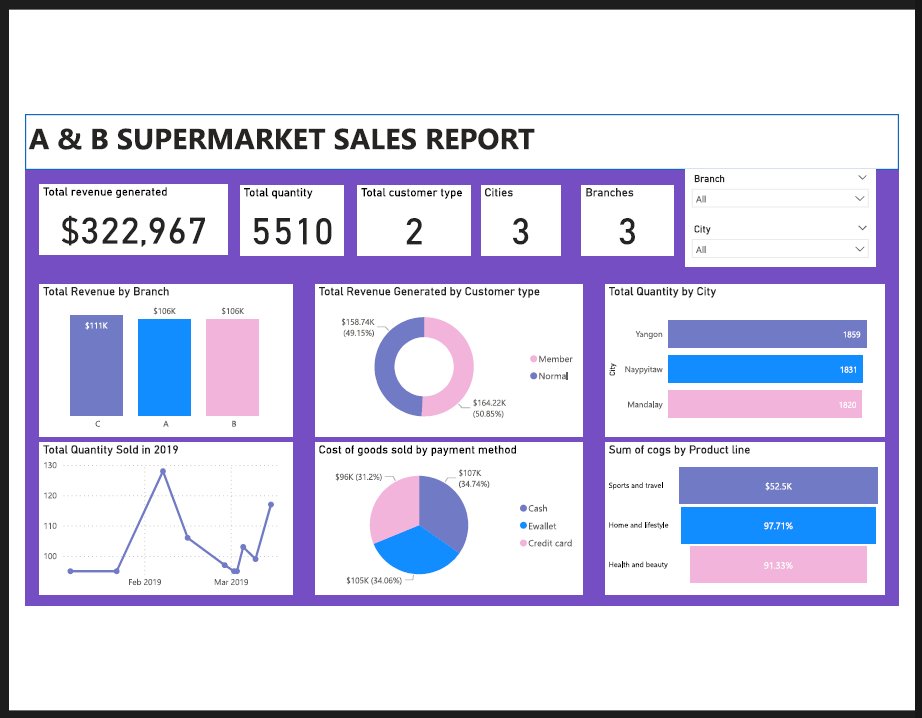

The dashboard page shown, as its layout file describes it:
{"tool":"powerbi","page":{"name":"Page 1","canvas":[1280,720],"ordinal":0},"visuals":[{"type":"card","title":"Total revenue generated","fields":{"Values":["Sum(Sheet1.Total)"]},"box":[20.7,103.3,275,101.7],"z":0},{"type":"shape","box":[0,0,1280,81.2],"z":1000},{"type":"textbox","box":[0,0,1280,81.2],"z":2000},{"type":"card","title":"Total quantity","fields":{"Values":["Sum(Sheet1.Quantity)"]},"box":[315.3,103.8,151,101.9],"z":3000},{"type":"card","title":"Total customer type","fields":{"Values":["Count(Sheet1.Customer type)"]},"box":[487.1,103.8,166.1,101.9],"z":4000},{"type":"card","title":"Cities","fields":{"Values":["Count(Sheet1.City)"]},"box":[668.3,103.8,117.1,101.9],"z":5000},{"type":"card","title":"Branches","fields":{"Values":["Count(Sheet1.Branch)"]},"box":[815.6,103.8,134,101.9],"z":6000},{"type":"columnChart","title":"Total Revenue by Branch","fields":{"Y":["Sum(Sheet1.Total)"],"Category":["Sheet1.Branch"]},"box":[20.8,249.2,370,222.8],"z":7000},{"type":"donutChart","title":"Total Revenue Generated by Customer type","fields":{"Y":["Sum(Sheet1.Total)"],"Category":["Sheet1.Customer type"]},"box":[424.8,249.2,390.8,222.8],"z":8000},{"type":"barChart","title":"Total Quantity by City","fields":{"Y":["Sum(Sheet1.Quantity)"],"Category":["Sheet1.City"]},"box":[849.6,249.2,409.7,222.8],"z":9000},{"type":"lineChart","title":"Total Quantity Sold in 2019","fields":{"Y":["Sum(Sheet1.Quantity)"],"Category":["Sheet1.Date"]},"box":[20.8,481.4,370,222.8],"z":10000},{"type":"funnel","fields":{"Category":["Sheet1.Product line"],"Y":["Sum(Sheet1.cogs)"]},"box":[849.6,481.4,409.7,222.8],"z":11000},{"type":"pieChart","title":"Cost of goods sold by payment method","fields":{"Category":["Sheet1.Payment"],"Y":["Sum(Sheet1.cogs)"]},"box":[425,481,391,223],"z":12000},{"type":"slicer","fields":{"Values":["Sheet1.Branch"]},"box":[966.6,81.2,279.4,73.6],"z":13000},{"type":"slicer","fields":{"Values":["Sheet1.City"]},"box":[966.6,154.8,279.4,68],"z":14000}]}

Visuals, with their boxes in screenshot pixels (x1, y1, x2, y2):
"Total revenue generated" card: l=36, t=181, r=224, b=251
shape: l=22, t=110, r=899, b=166
textbox: l=22, t=110, r=899, b=166
"Total quantity" card: l=238, t=182, r=341, b=251
"Total customer type" card: l=355, t=182, r=469, b=251
"Cities" card: l=480, t=182, r=560, b=251
"Branches" card: l=580, t=182, r=672, b=251
"Total Revenue by Branch" columnChart: l=36, t=281, r=289, b=434
"Total Revenue Generated by Customer type" donutChart: l=313, t=281, r=580, b=434
"Total Quantity by City" barChart: l=604, t=281, r=884, b=434
"Total Quantity Sold in 2019" lineChart: l=36, t=440, r=289, b=593
funnel - Sheet1.Product line x Sum(Sheet1.cogs): l=604, t=440, r=884, b=593
"Cost of goods sold by payment method" pieChart: l=313, t=440, r=581, b=593
slicer - Sheet1.Branch: l=684, t=166, r=875, b=217
slicer - Sheet1.City: l=684, t=217, r=875, b=263
